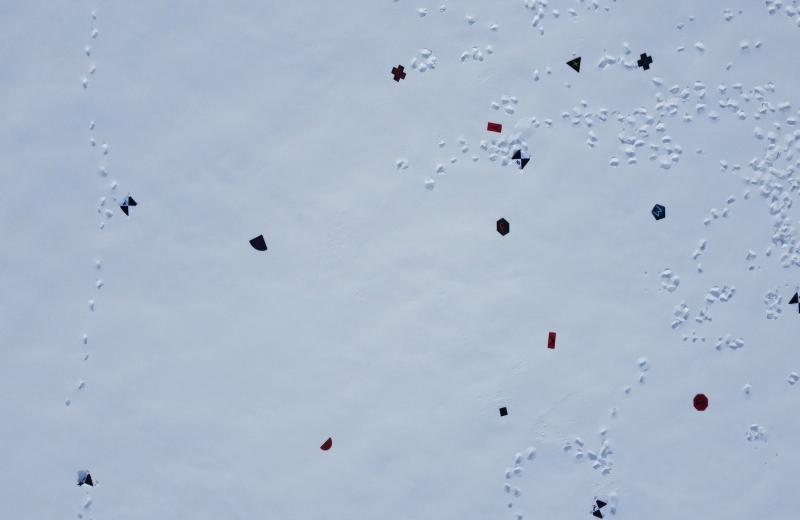Cross: (636, 51, 652, 71), (390, 63, 406, 82)
Hexagon: (496, 218, 509, 236)
Octagon: (693, 393, 709, 412)
Pentagon: (649, 204, 667, 222)
Quarter Circle: (250, 233, 268, 251)
Rectangle: (545, 329, 559, 350), (487, 118, 503, 136)
Semi Circle: (318, 435, 336, 452)
Square: (499, 406, 508, 417)
Triangle: (565, 55, 582, 74)
